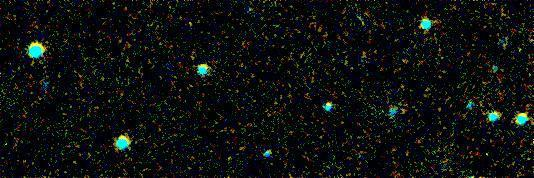star: (314, 88, 344, 118)
